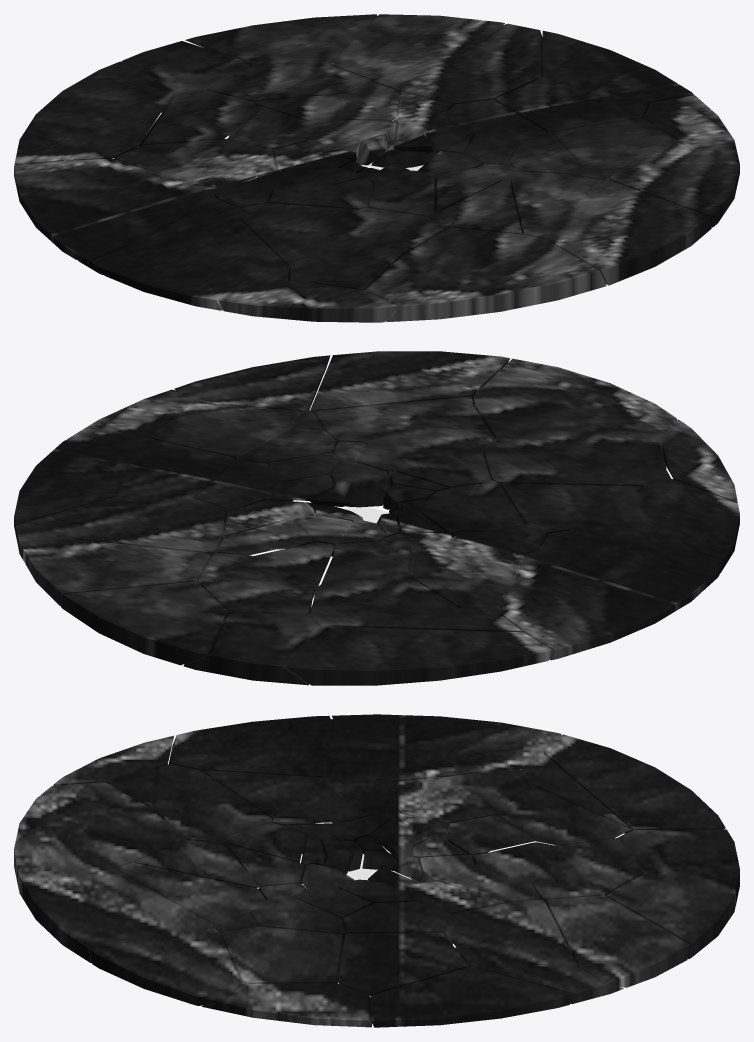
File: lord_effect_9.fbx
3 renders of one model, top to bottom at view 1: azimuth 30°, elevation 25°; view 2: azimuth 150°, elevation 25°; view 3: azimuth 270°, elevation 25°, orthographic.
Visible parts, largest first — view 1: Cylinder001_frag_059, Cylinder001_frag_067, Cylinder001_frag_057, Cylinder001_frag_071, Cylinder001_frag_077, Cylinder001_frag_064, Cylinder001_frag_058, Cylinder001_frag_076, Cylinder001_frag_075, Cylinder001_frag_074, Cylinder001_frag_072, Cylinder001_frag_069 (+37 smaller); view 2: Cylinder001_frag_067, Cylinder001_frag_077, Cylinder001_frag_059, Cylinder001_frag_057, Cylinder001_frag_076, Cylinder001_frag_071, Cylinder001_frag_064, Cylinder001_frag_058, Cylinder001_frag_075, Cylinder001_frag_065, Cylinder001_frag_035, Cylinder001_frag_074 (+37 smaller); view 3: Cylinder001_frag_059, Cylinder001_frag_067, Cylinder001_frag_071, Cylinder001_frag_077, Cylinder001_frag_064, Cylinder001_frag_057, Cylinder001_frag_074, Cylinder001_frag_072, Cylinder001_frag_076, Cylinder001_frag_075, Cylinder001_frag_051, Cylinder001_frag_062 (+38 smaller).
Boxes of the visible parts, box(x1,y1,x2,y2) form: Cylinder001_frag_059: box(362, 227, 606, 321); Cylinder001_frag_067: box(14, 158, 211, 262); Cylinder001_frag_057: box(89, 217, 288, 310); Cylinder001_frag_071: box(546, 179, 711, 285); Cylinder001_frag_077: box(14, 61, 176, 165); Cylinder001_frag_064: box(330, 14, 504, 82); Cylinder001_frag_058: box(288, 208, 447, 282); Cylinder001_frag_076: box(185, 14, 377, 64); Cylinder001_frag_075: box(374, 41, 540, 110); Cylinder001_frag_074: box(542, 30, 693, 104); Cylinder001_frag_072: box(608, 151, 739, 227); Cylinder001_frag_069: box(219, 281, 398, 322); Cylinder001_frag_067: box(500, 551, 710, 660); Cylinder001_frag_077: box(285, 626, 552, 685); Cylinder001_frag_059: box(472, 358, 677, 454); Cylinder001_frag_057: box(568, 479, 739, 579); Cylinder001_frag_076: box(61, 581, 226, 665); Cylinder001_frag_071: box(310, 351, 509, 411); Cylinder001_frag_064: box(19, 538, 211, 605); Cylinder001_frag_058: box(484, 437, 671, 486); Cylinder001_frag_075: box(70, 495, 226, 556); Cylinder001_frag_065: box(183, 608, 321, 685); Cylinder001_frag_035: box(410, 537, 515, 612); Cylinder001_frag_074: box(14, 439, 118, 531); Cylinder001_frag_059: box(14, 782, 184, 890); Cylinder001_frag_067: box(332, 714, 561, 782); Cylinder001_frag_071: box(18, 868, 213, 962); Cylinder001_frag_077: box(544, 734, 725, 833); Cylinder001_frag_064: box(546, 895, 689, 987); Cylinder001_frag_057: box(169, 715, 339, 776); Cylinder001_frag_074: box(371, 966, 572, 1027); Cylinder001_frag_072: box(89, 928, 240, 1005); Cylinder001_frag_076: box(606, 863, 739, 958); Cylinder001_frag_075: box(444, 899, 576, 965); Cylinder001_frag_051: box(218, 926, 343, 984); Cylinder001_frag_062: box(338, 932, 469, 996).
Size of the model in its own units: 14.79 by 0.8296 by 14.79.
